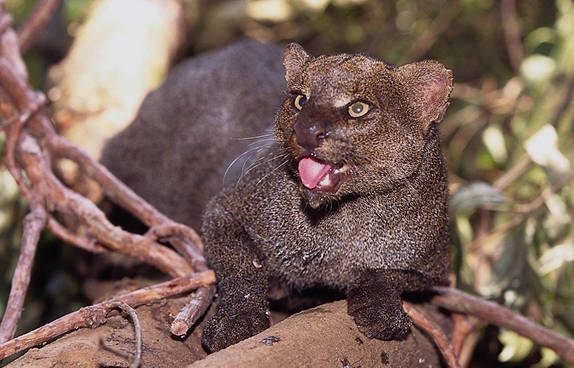Jaguarundi: (105, 34, 467, 352)
